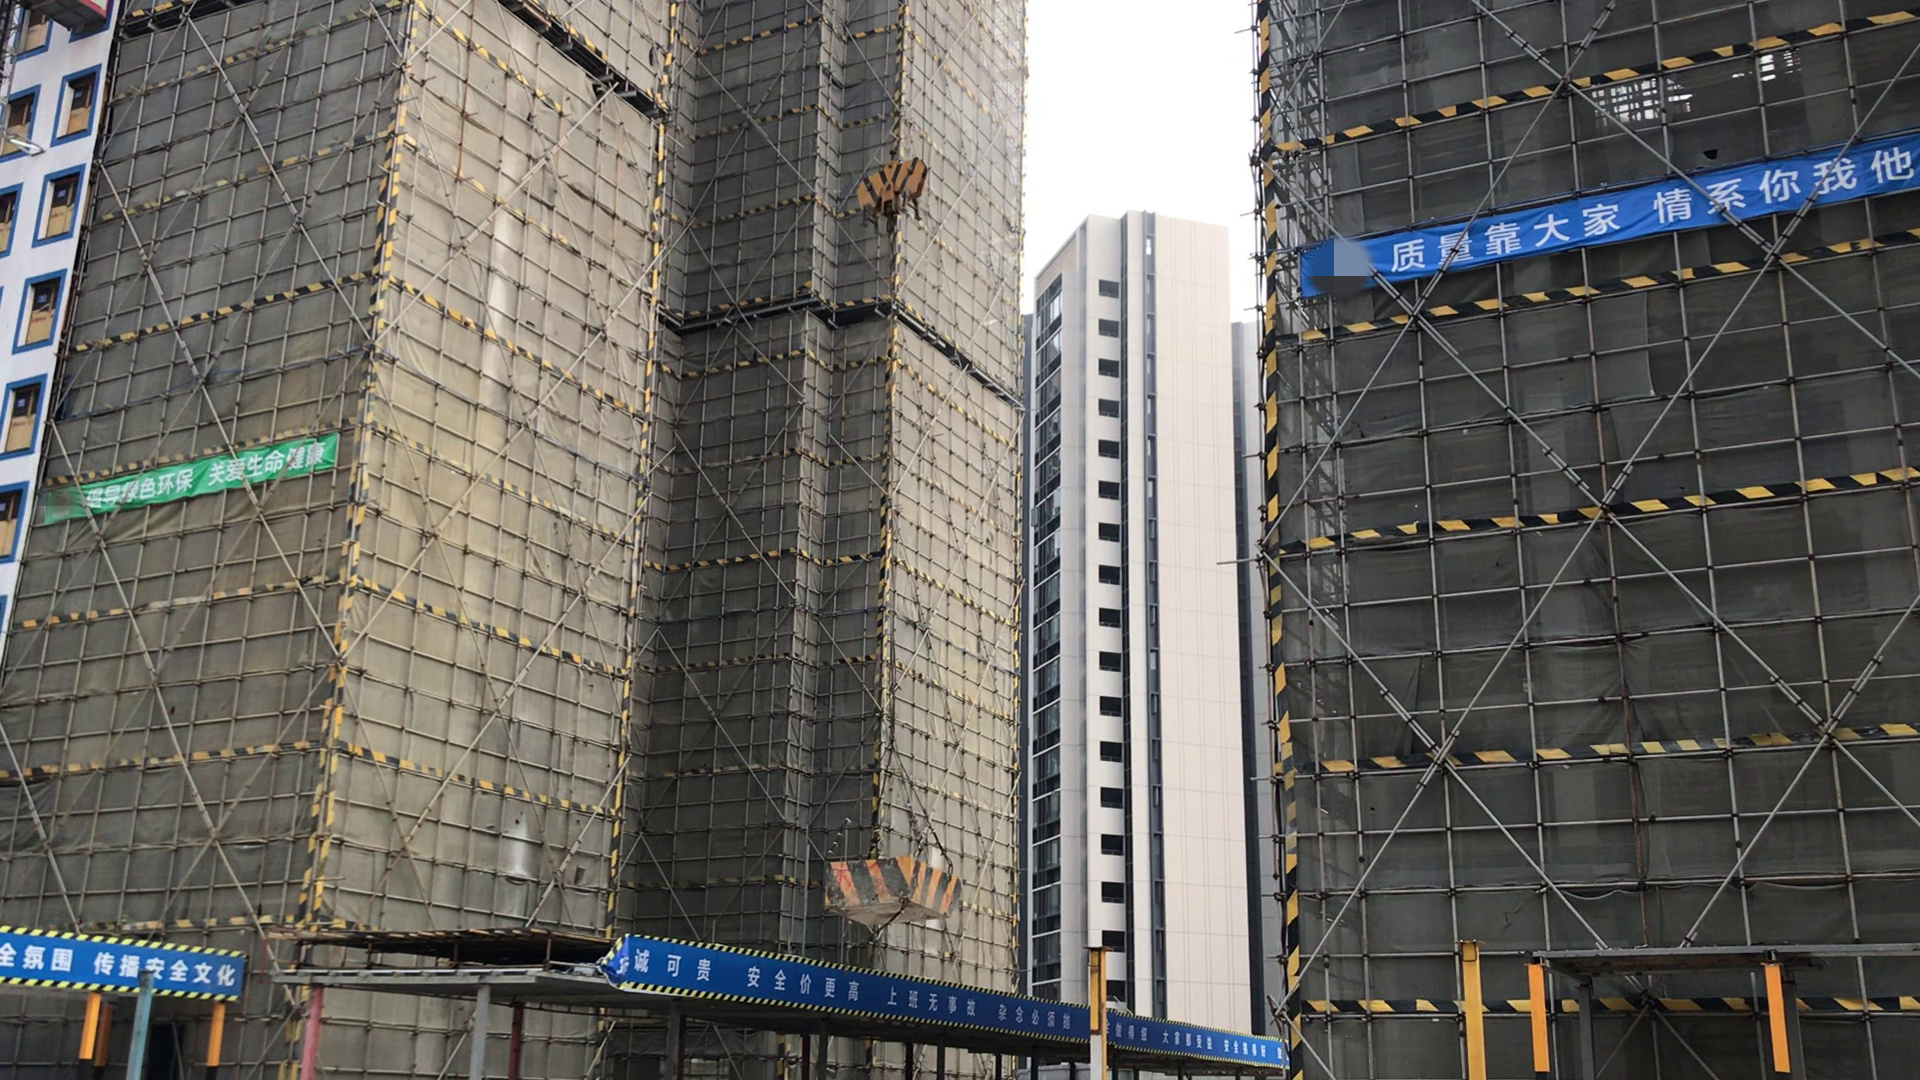hook: (849, 150, 931, 222)
hopper: (824, 858, 968, 924)
slogan: (622, 927, 1292, 1068), (1302, 146, 1916, 295), (61, 429, 342, 524), (1, 934, 249, 988)
